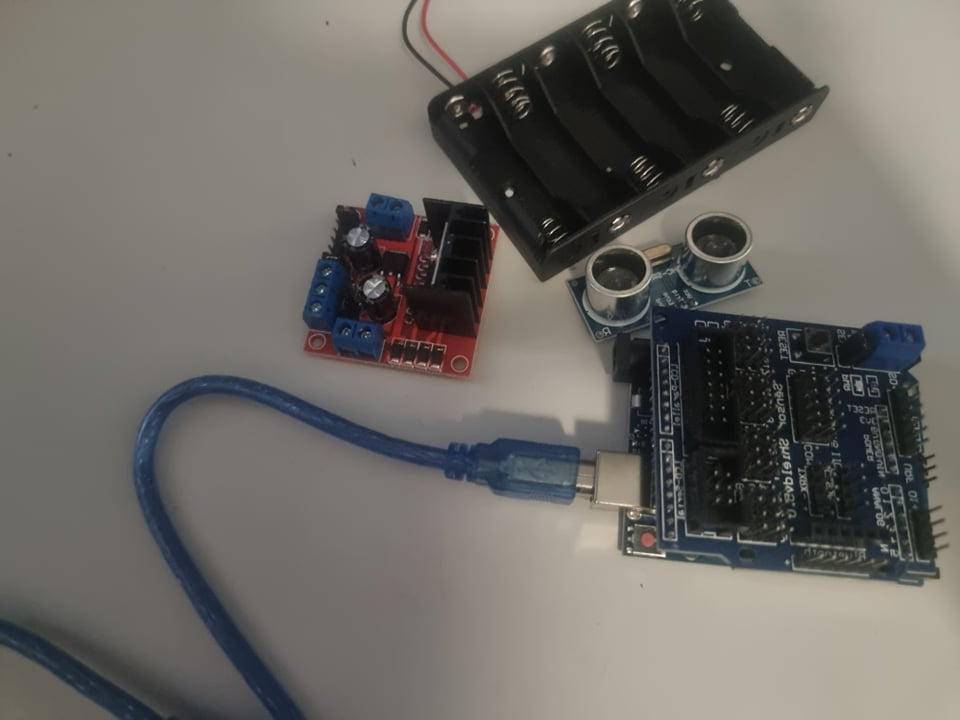5V EXPANSION: (652, 318, 945, 566)
BATTERY BOX: (422, 1, 840, 284)
MOTOR: (298, 205, 501, 377)
SENSOR: (564, 216, 765, 339)
UNO R3: (589, 335, 654, 563)
